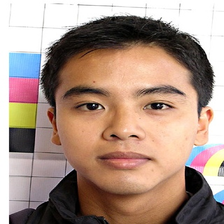no_mask: (54, 54, 197, 189)
